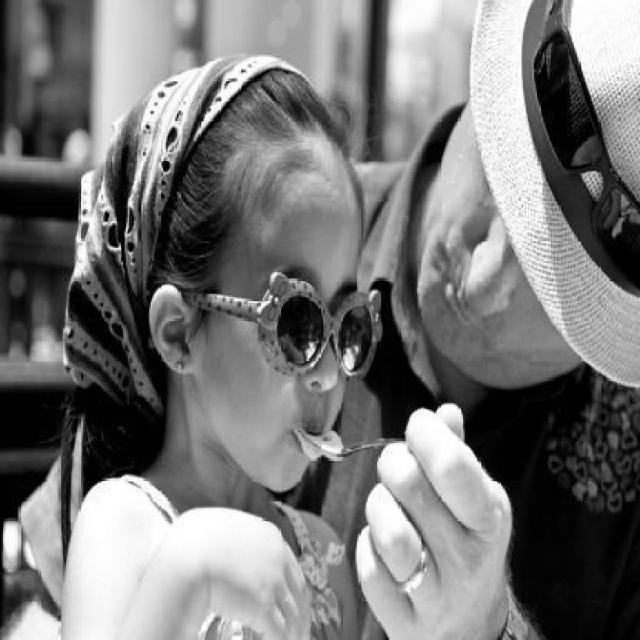face_nomask: (221, 259, 385, 486)
glasses: (144, 252, 385, 382)
hand_noglove: (333, 398, 516, 637)
head_nohelmet: (103, 46, 355, 220)
